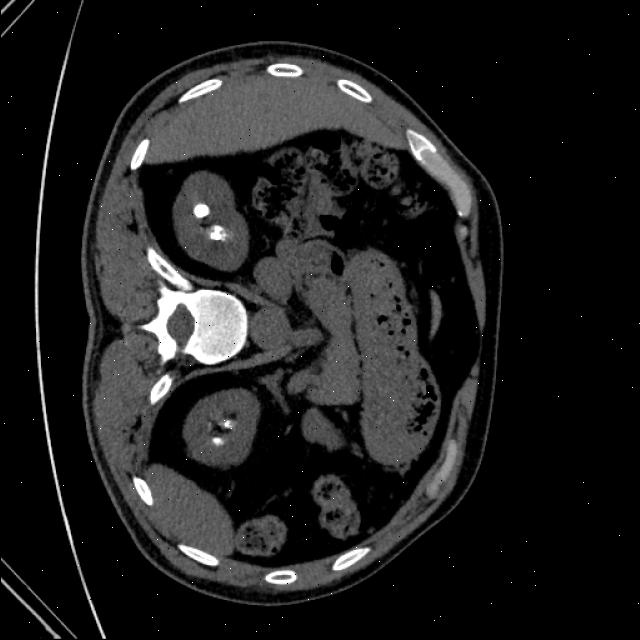kidneystone: (208, 225, 228, 241), (193, 204, 209, 218), (221, 419, 235, 430)
